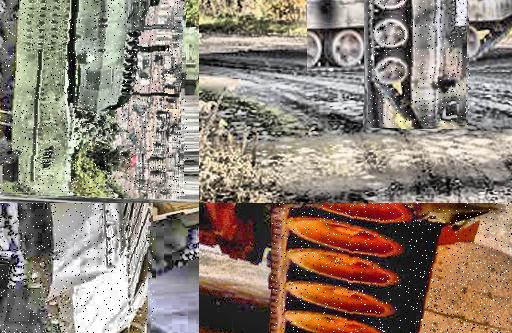tanks: (272, 204, 512, 333), (1, 1, 157, 194), (1, 204, 155, 333), (369, 1, 470, 127)
